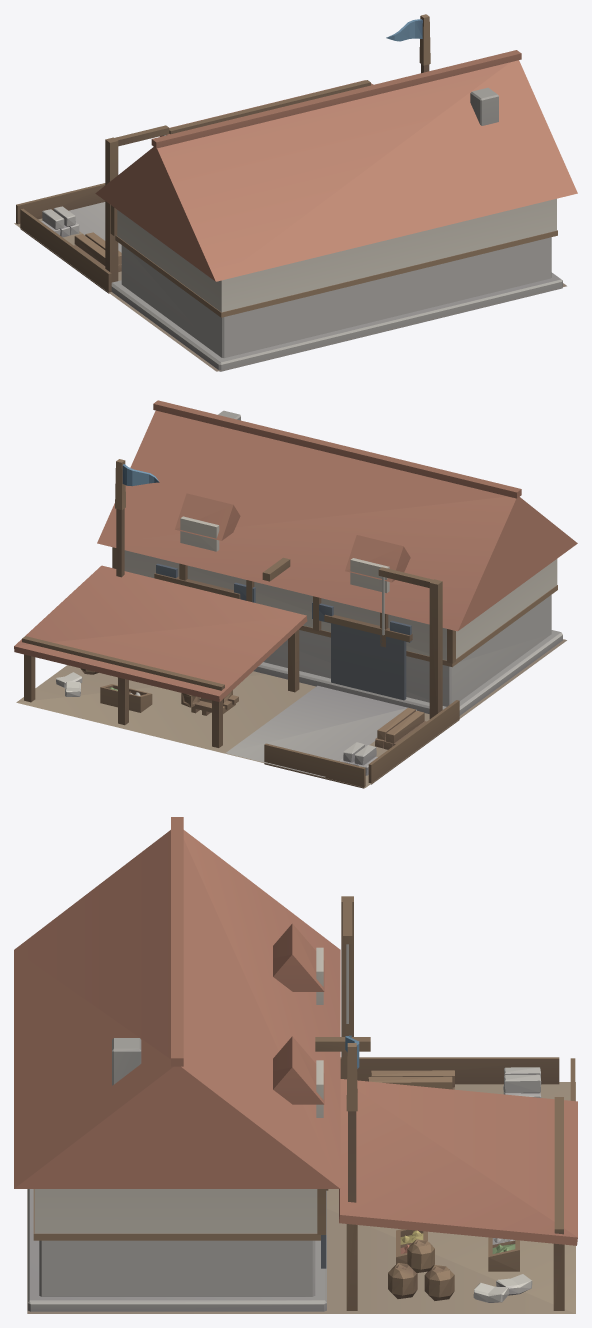
Rendered from warehouse.l3.glb.
3 views of the same model, one above another, from view 1: azimuth 30°, elevation 25°; view 2: azimuth 150°, elevation 25°; view 3: azimuth 270°, elevation 25° (orthographic). The views are drawn at different scales.
Visible parts, largest first — view 1: warehouse; view 2: warehouse; view 3: warehouse.
Boxes of the visible parts, box(x1,y1,x2,y2) form: warehouse: box(14, 14, 577, 371); warehouse: box(14, 400, 577, 788); warehouse: box(14, 817, 577, 1313).
Size of the model in its own units: 6.2 by 3.14 by 6.13.
